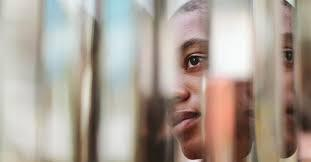Persons: (153, 4, 220, 159)
